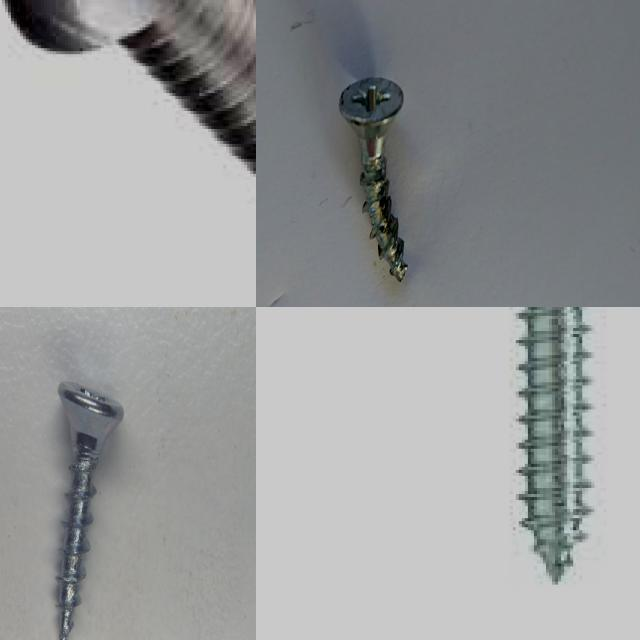Screw: (2, 0, 256, 181), (519, 307, 597, 588), (58, 380, 124, 640), (339, 77, 408, 282)
